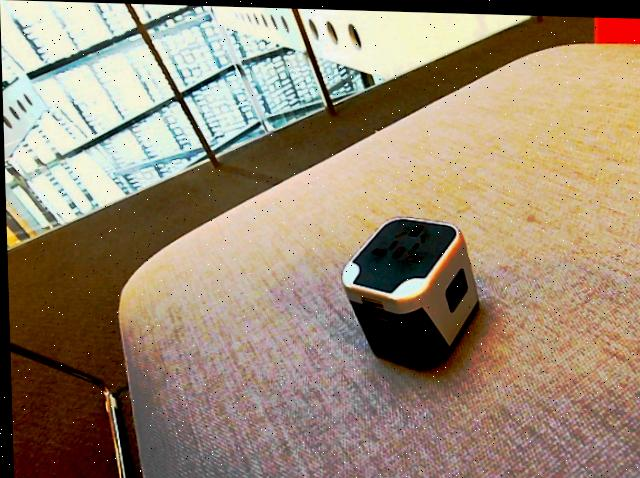adapter: (337, 211, 478, 369)
